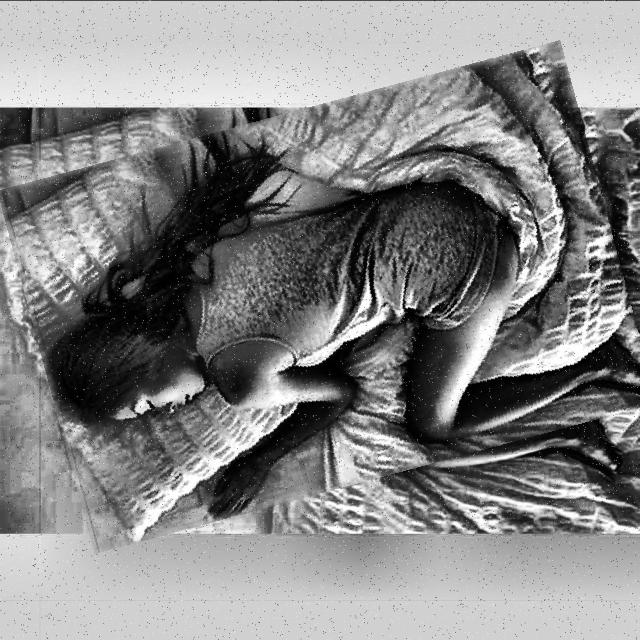Not_Supine: (45, 135, 640, 521)
